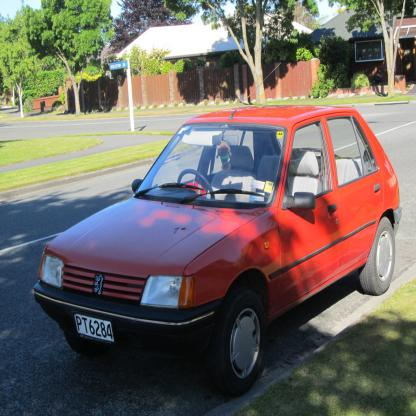Car: (34, 62, 402, 398)
